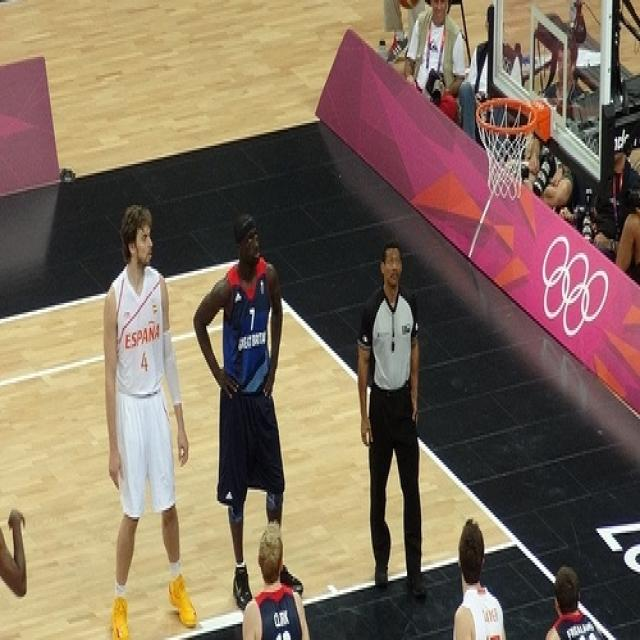hoop: (470, 90, 547, 205)
